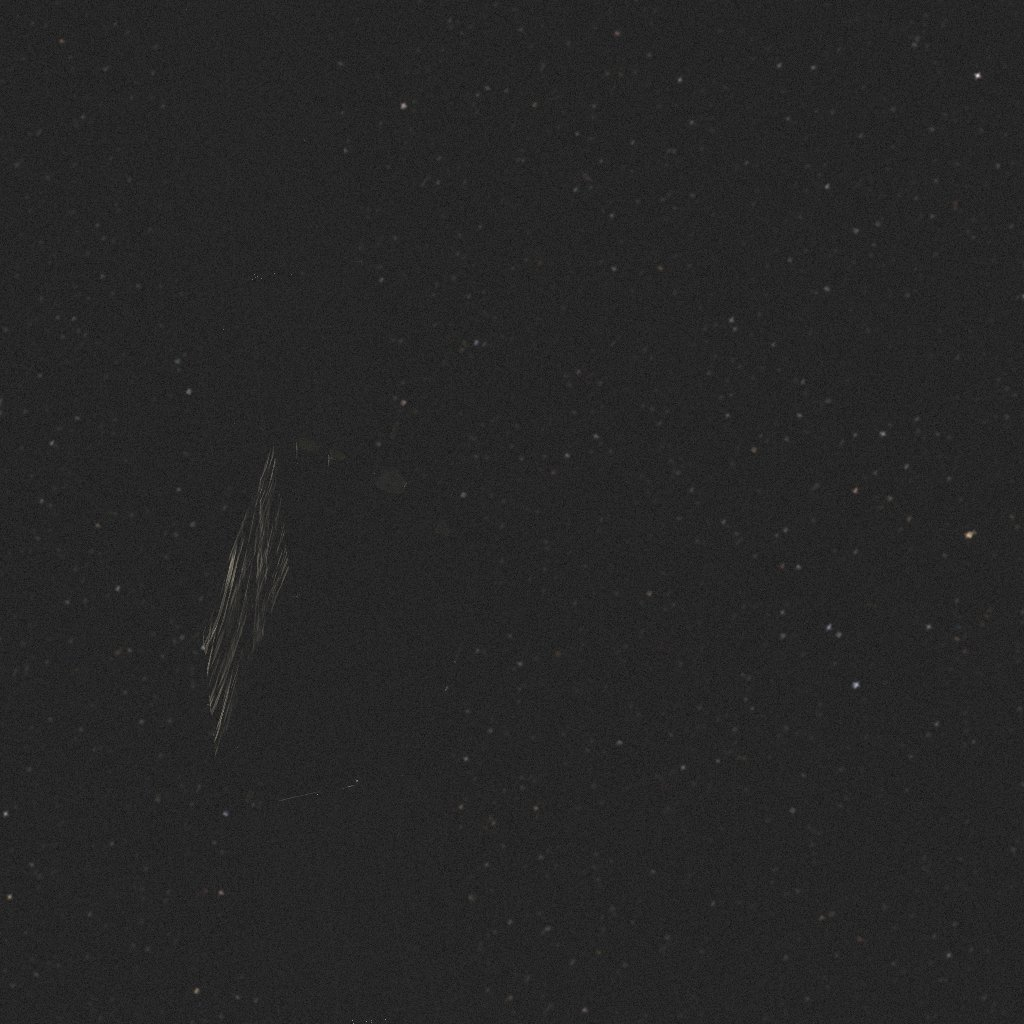smart_1: (156, 0, 496, 1024)
